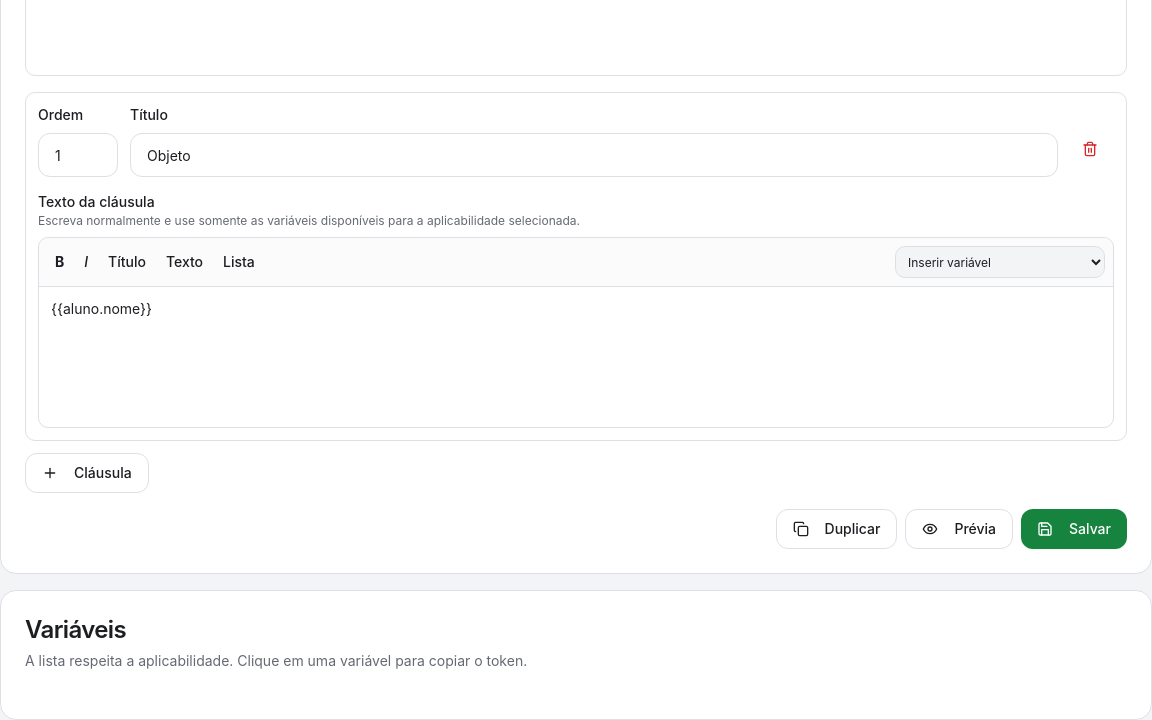
Test case: SettingsContractTemplates preview › limpa o erro anterior ao fechar e reabrir o modal de prévia
(page scrolled)
Click the button "Prévia".
click(959, 529)  # box [905, 509, 1013, 549]
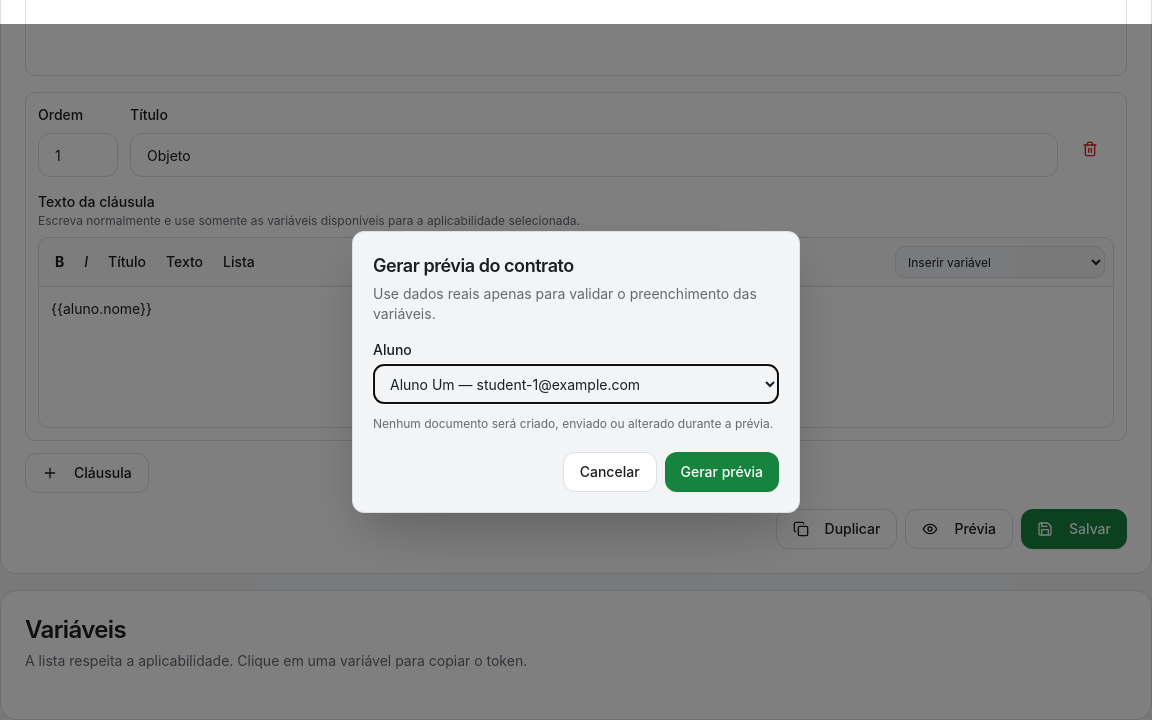
Expected: the dropdown labelled "Aluno" shows "Aluno Um — student-1@example.com", [373, 364, 779, 404]
Click the button "Gerar prévia".
click(722, 472)  # box [665, 452, 779, 492]
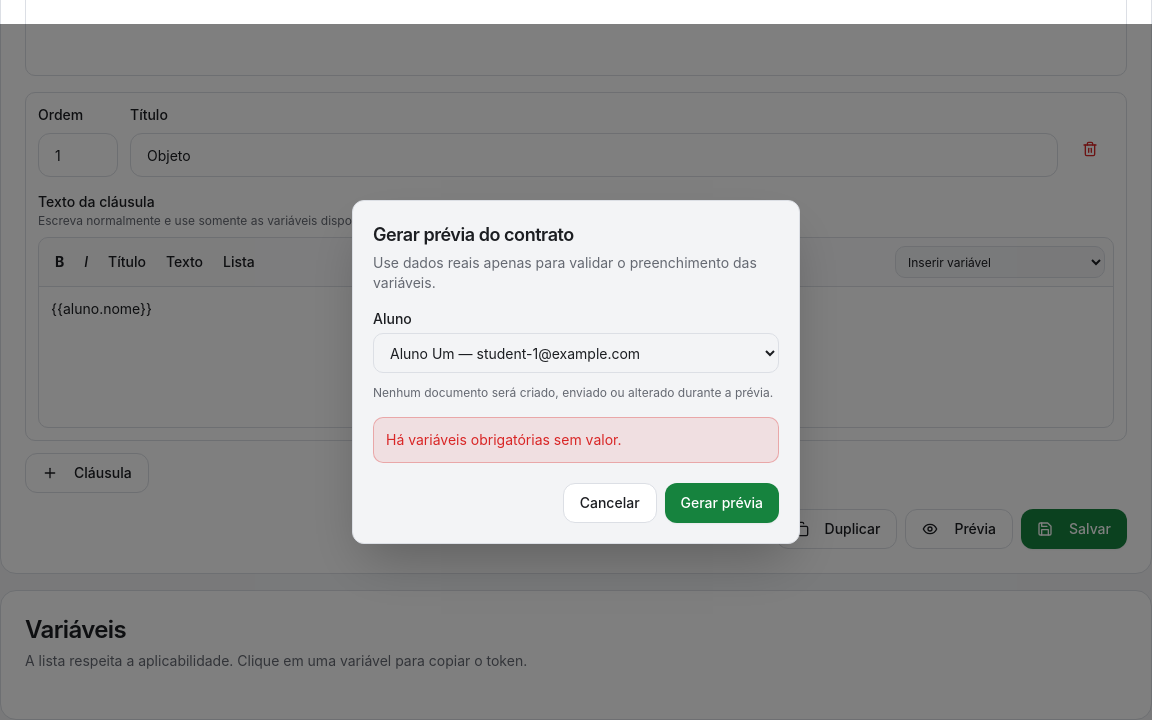
Expected: the message reads "Há variáveis obrigatórias sem valor.", [386, 431, 622, 448]
Click the button "Cancelar".
click(610, 503)  # box [563, 483, 656, 523]
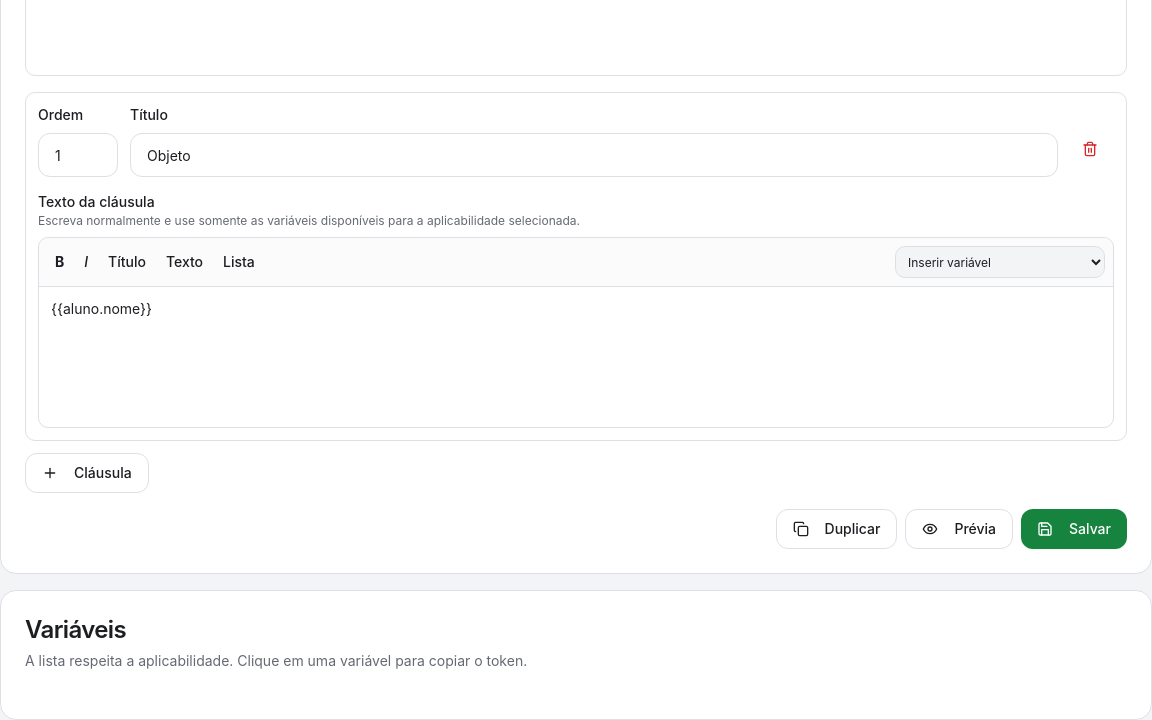
Expected: the dialog is gone
Click the button "Prévia".
click(959, 529)  # box [905, 509, 1013, 549]
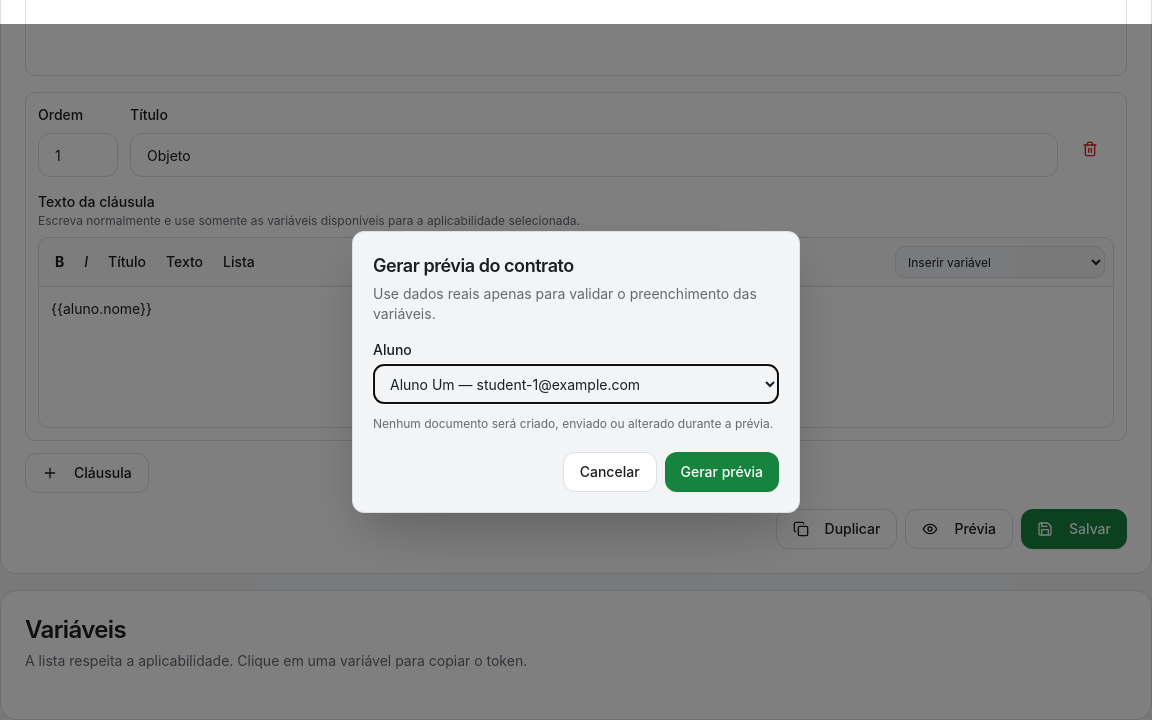
Expected: the message "Há variáveis obrigatórias sem valor." is not shown
Expected: the dropdown labelled "Aluno" shows "Aluno Um — student-1@example.com", [373, 364, 779, 404]
Expected: the dialog is shown, [352, 231, 800, 513]
